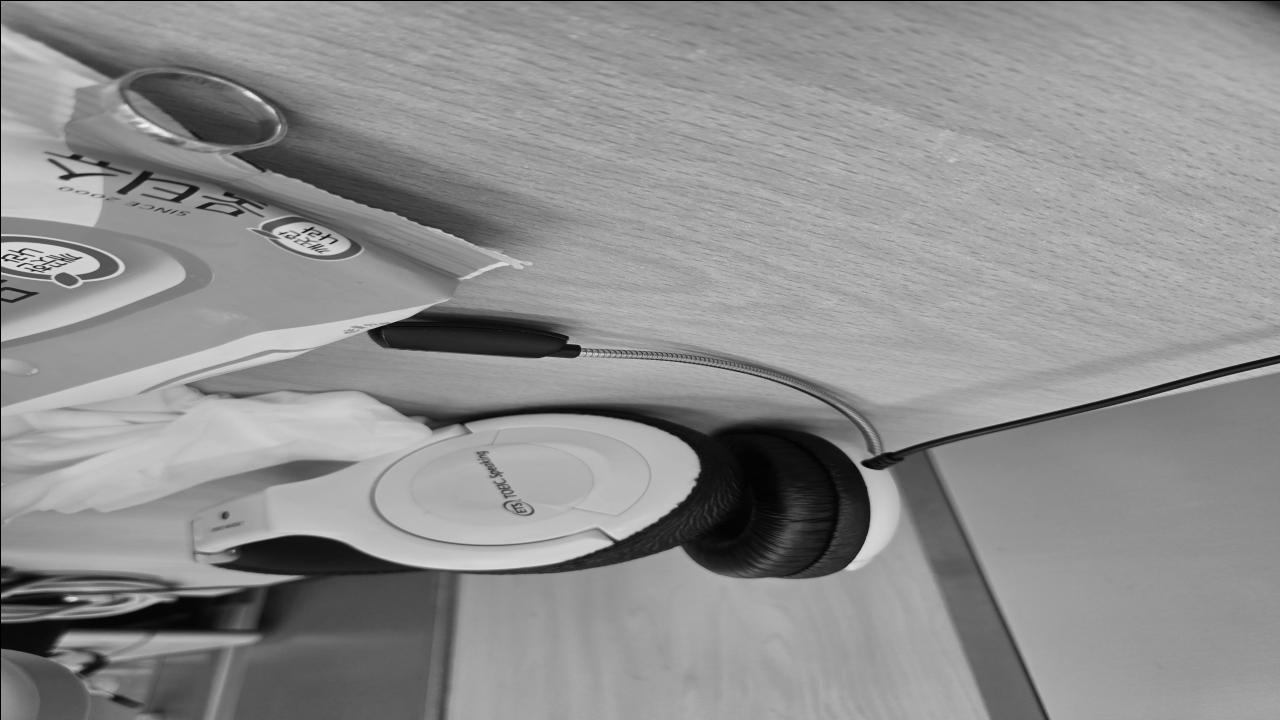ring: (98, 61, 290, 151)
